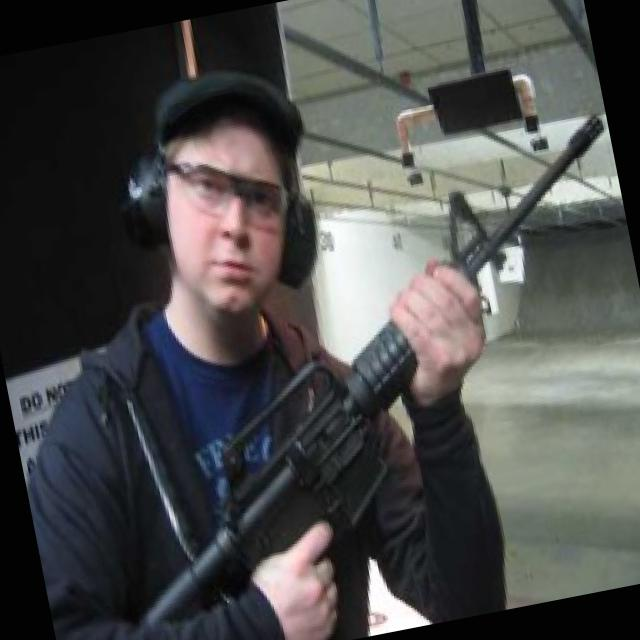long weapon: (62, 97, 611, 640)
